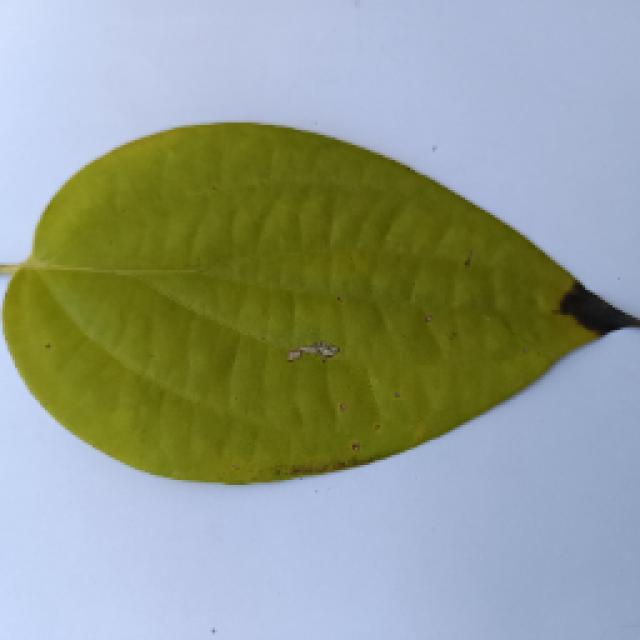slow-decline: (0, 122, 628, 478)
